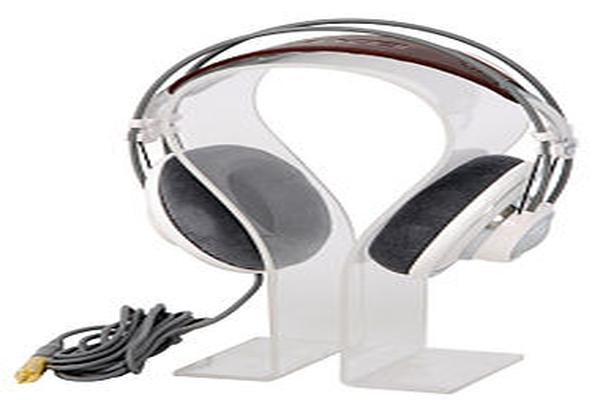headphone: (36, 9, 600, 299)
